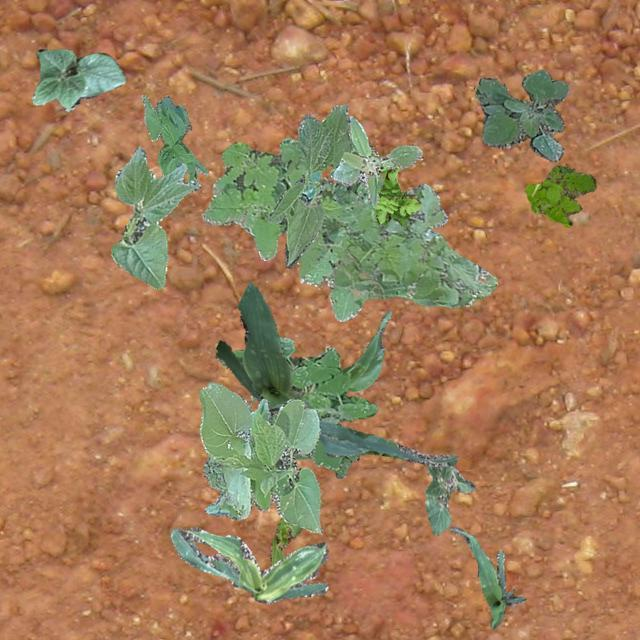crop: (214, 280, 456, 466), (198, 380, 322, 532), (266, 102, 351, 268), (110, 146, 200, 288), (170, 526, 328, 602), (448, 526, 524, 626), (140, 94, 207, 182), (30, 48, 124, 110), (340, 308, 390, 392), (424, 464, 474, 534), (270, 516, 302, 566)
weed: (200, 137, 497, 320), (216, 336, 376, 470), (474, 68, 568, 160), (329, 116, 422, 204), (524, 164, 594, 226), (328, 140, 382, 208), (372, 162, 419, 225), (202, 456, 240, 518), (294, 452, 358, 478)
